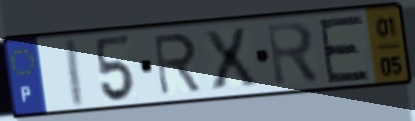5: (91, 32, 138, 105)
E: (316, 13, 373, 86)
I: (65, 35, 88, 111)
R: (264, 18, 324, 90), (150, 30, 204, 98)
X: (199, 25, 261, 93)
